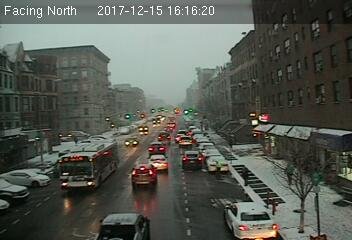bus: (58, 141, 118, 190)
car: (224, 202, 278, 239), (95, 212, 150, 240), (130, 165, 159, 184), (206, 155, 229, 172), (181, 151, 203, 168), (149, 154, 168, 170), (147, 143, 165, 155), (158, 132, 172, 143), (179, 136, 193, 147), (124, 137, 138, 146)
